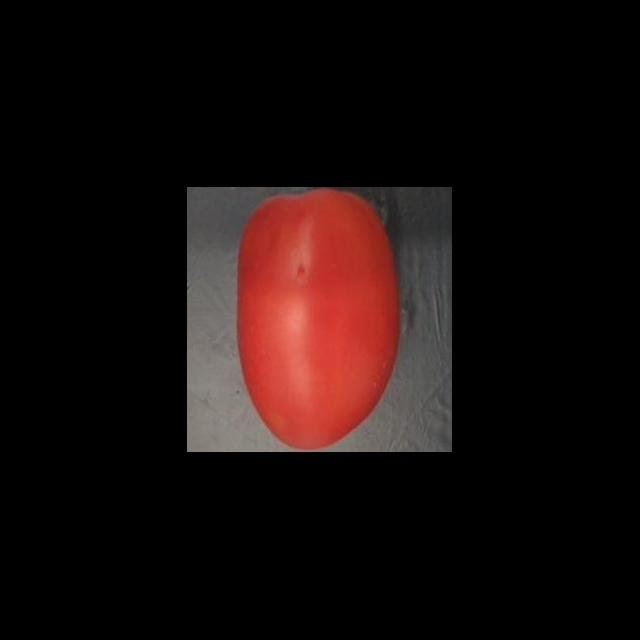tomato: (228, 188, 406, 452)
